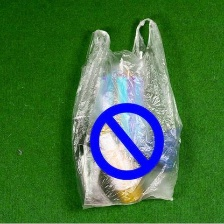plastic_bag: (67, 16, 184, 209)
